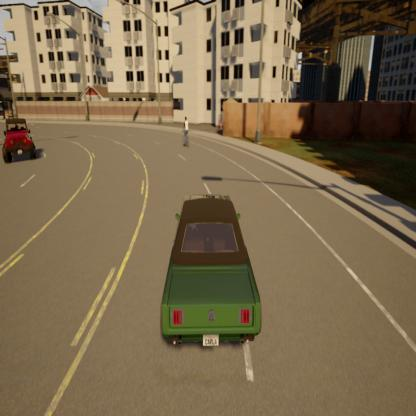Cars: (149, 185, 278, 362), (0, 111, 41, 167)
